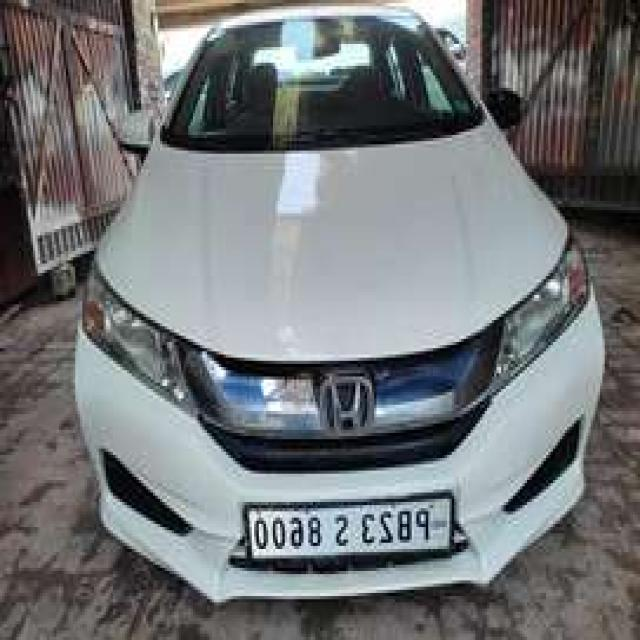license_plate: (240, 485, 458, 571)
